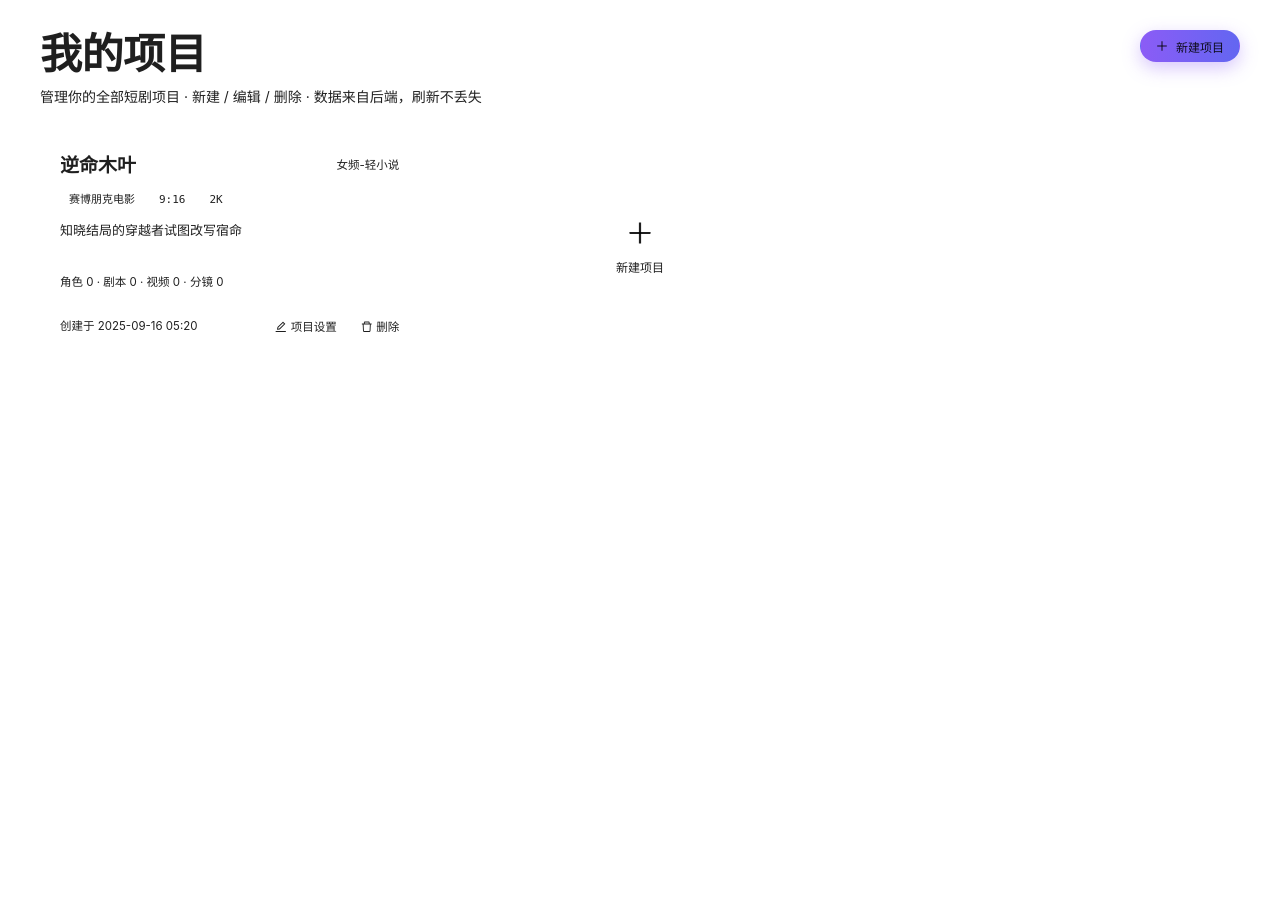
it: HomePage（真实后端契约） › 点卡片上的操作按钮不会连带触发卡片跳转
Click the button "项目设置": click(306, 326) [265,313,347,339]
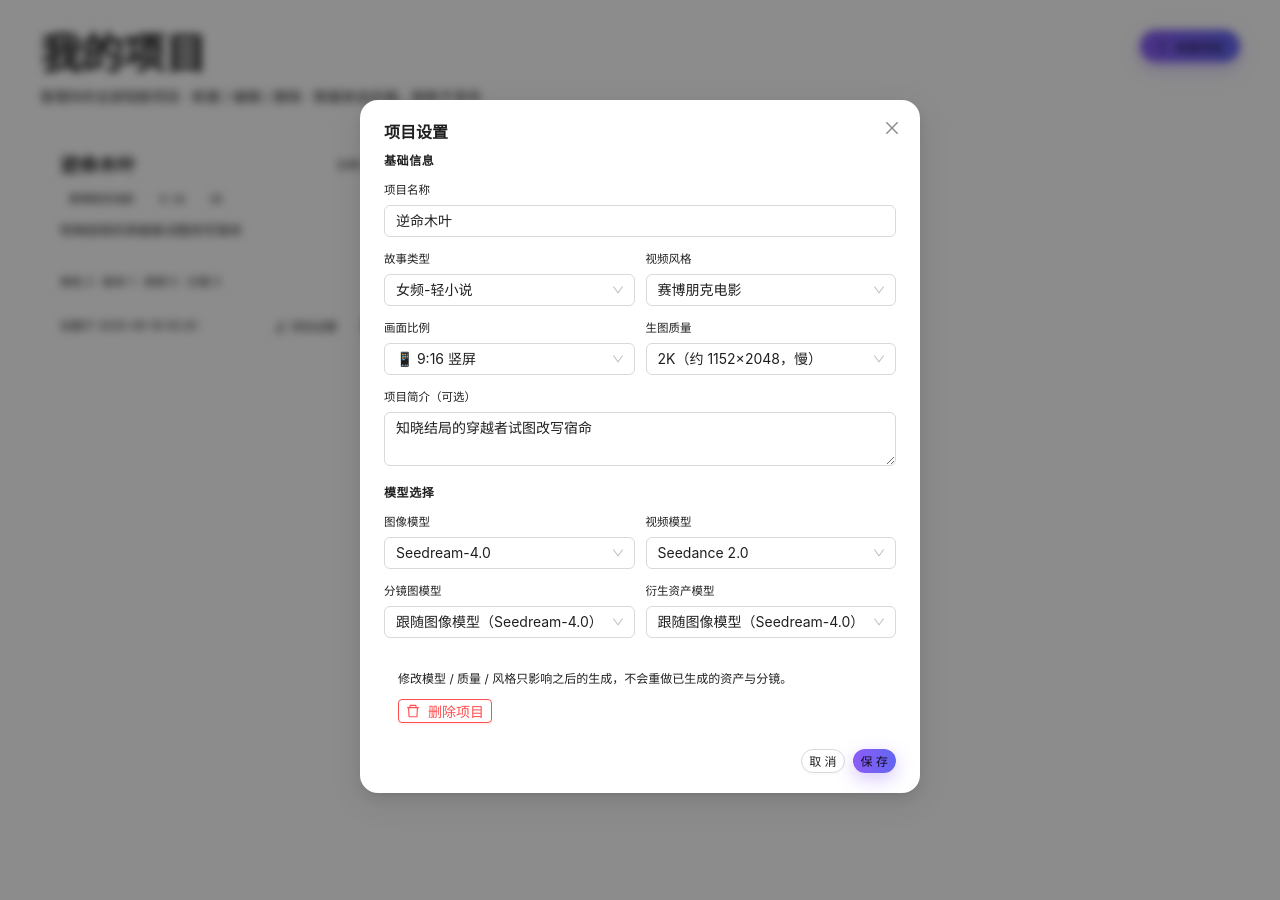
Check: the text "保 存" is shown, box [861,752,888,769]
